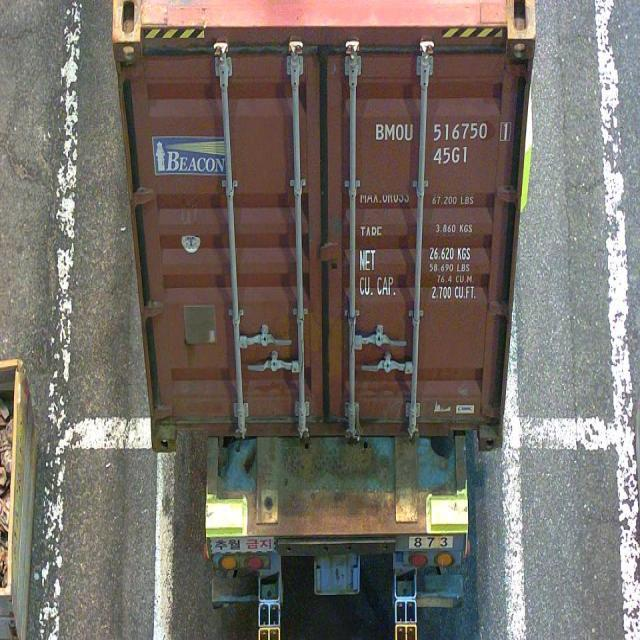ISO: (434, 144, 471, 166)
container_number: (376, 120, 516, 143)
